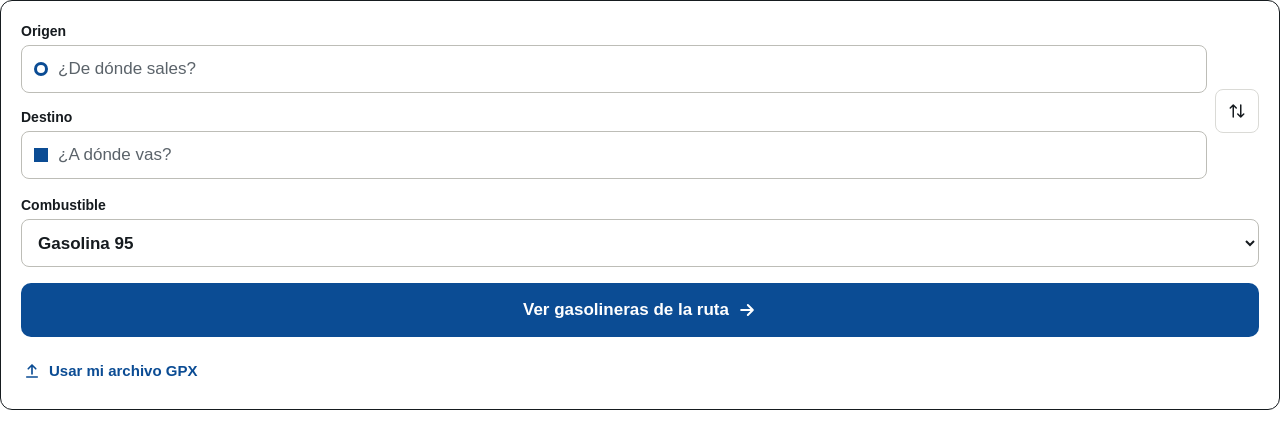
Scenario: SearchForm › can be used with the keyboard: arrows to move, Enter to pick
Type "Valen" into the dropdown labelled "Destino" at (630, 155), box [58,132,1202,178]
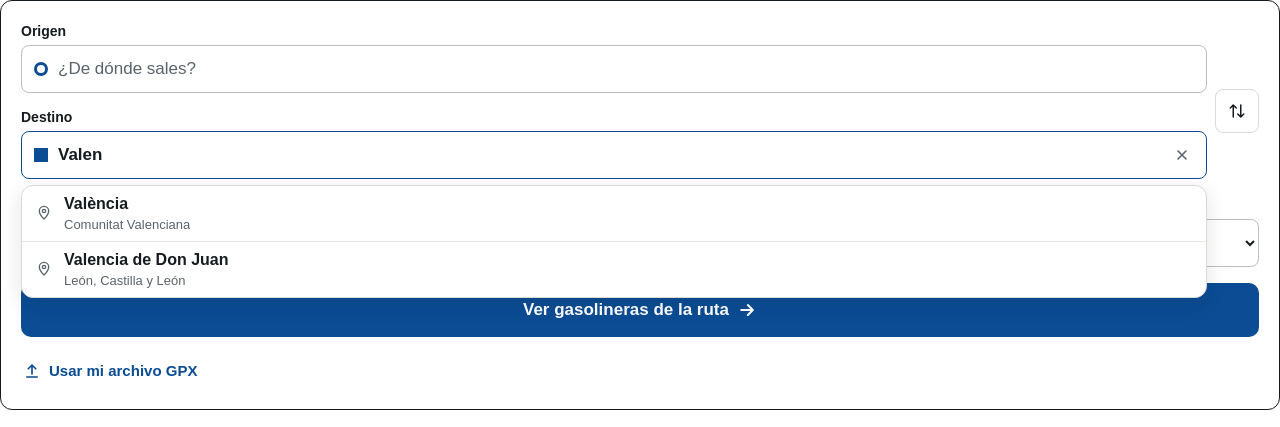
Expected: the option "València Comunitat Valenciana" is shown, [22,186,1206,242]
Press Arrowdown Arrowdown
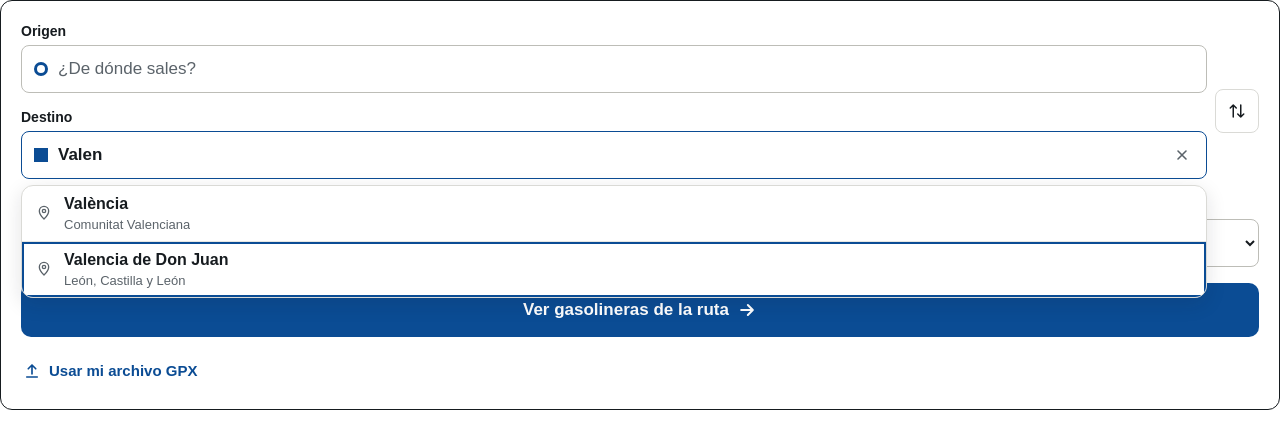
Press Enter
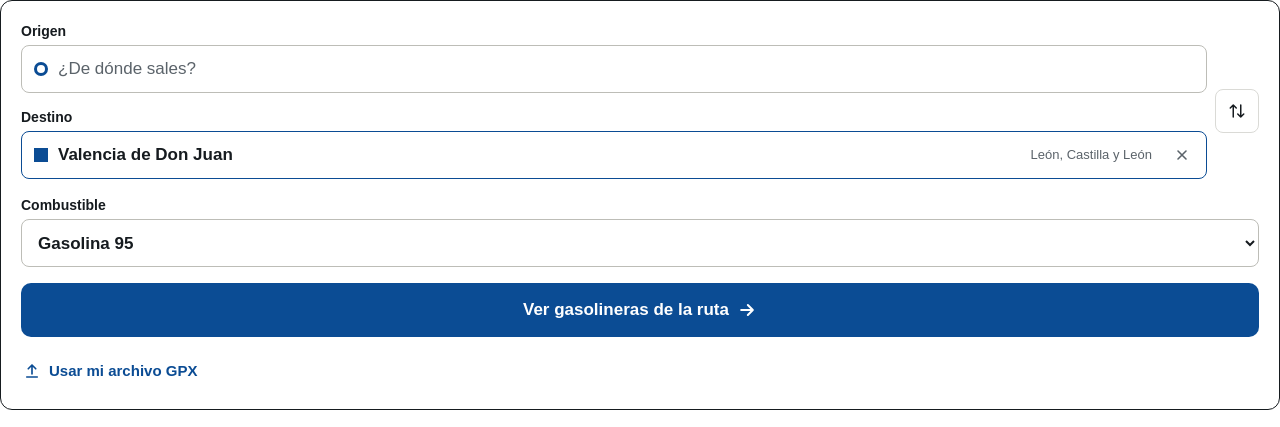
Expected: the dropdown labelled "Destino" holds "Valencia de Don Juan", [58,132,1021,178]
